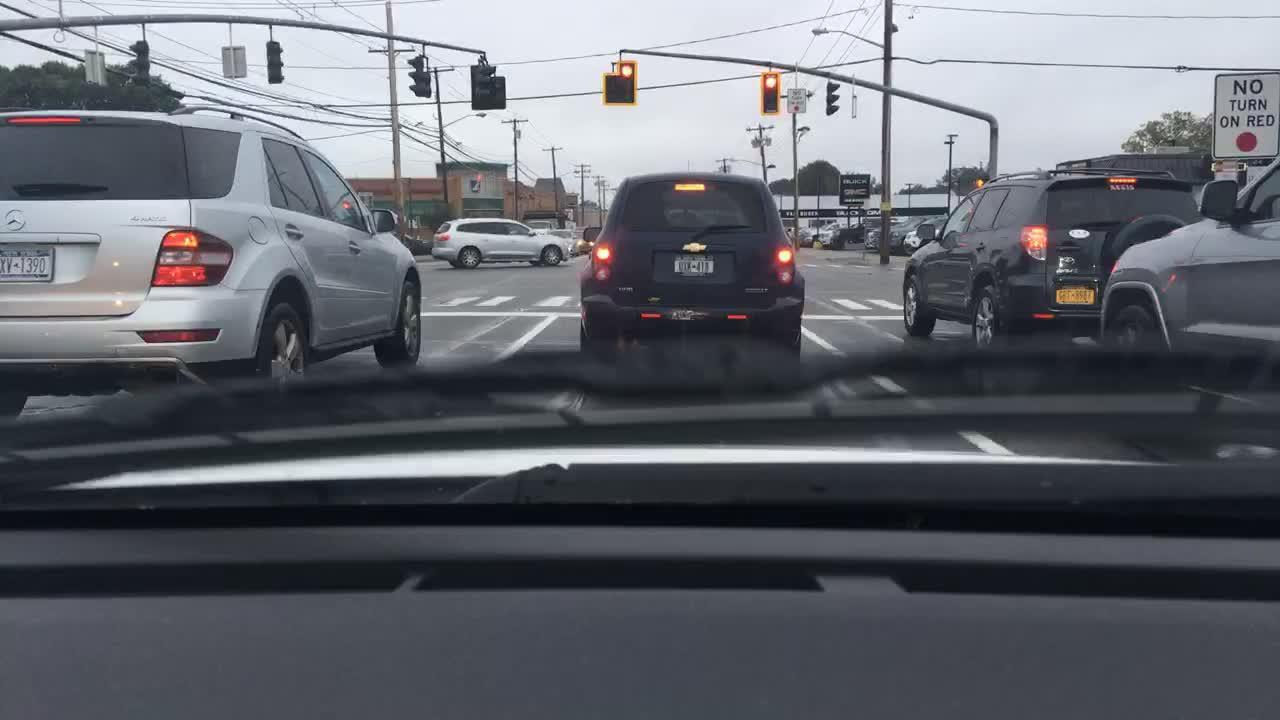Mercedes: (0, 205, 34, 236)
chevrolet: (682, 238, 708, 257)
